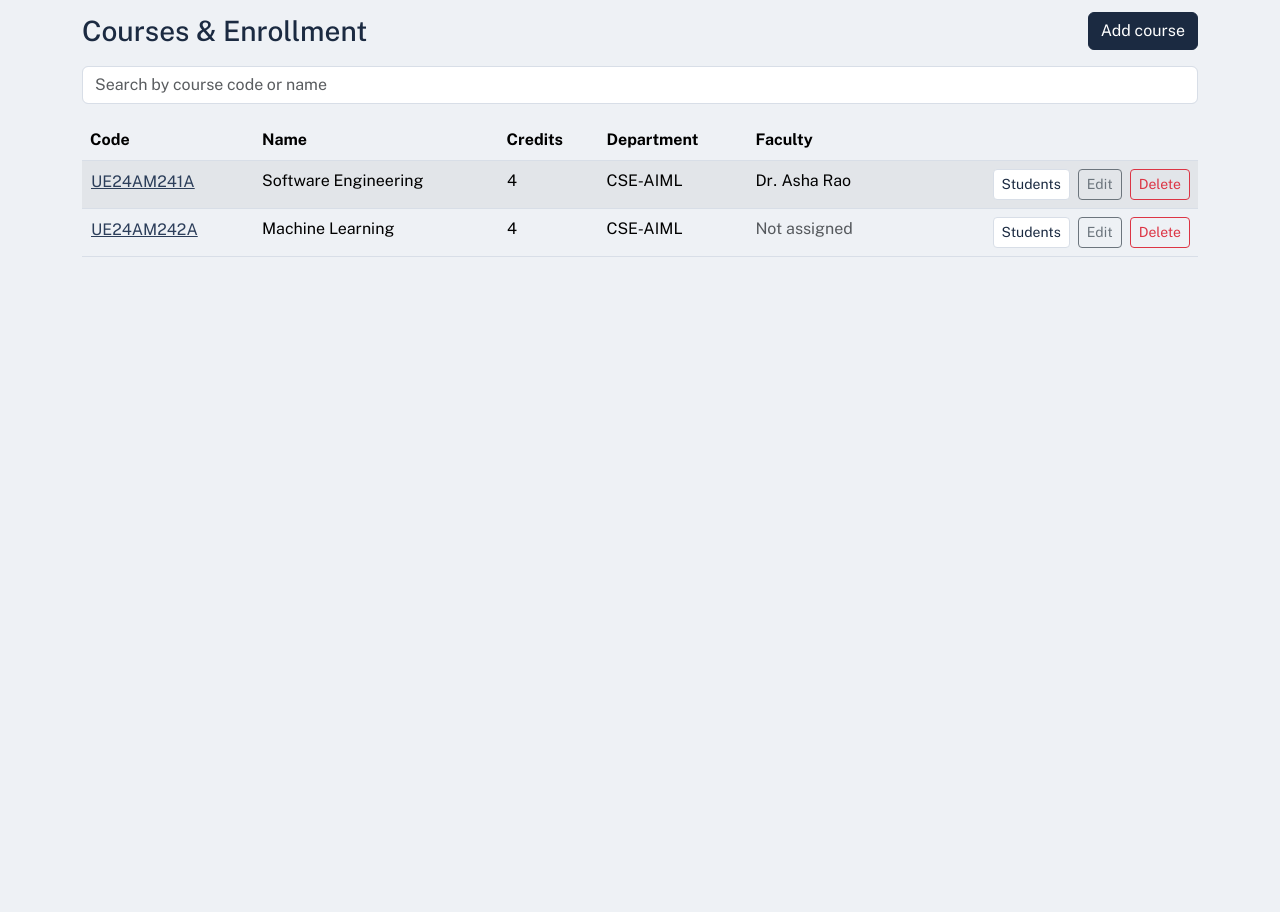
Test: Enrollment panel (issue #12) › TC-CRS-03: shows the API message for a duplicate enrollment
Click the button with aria-label "Students in UE24AM241A" at (1031, 184), box [992,169,1070,200]
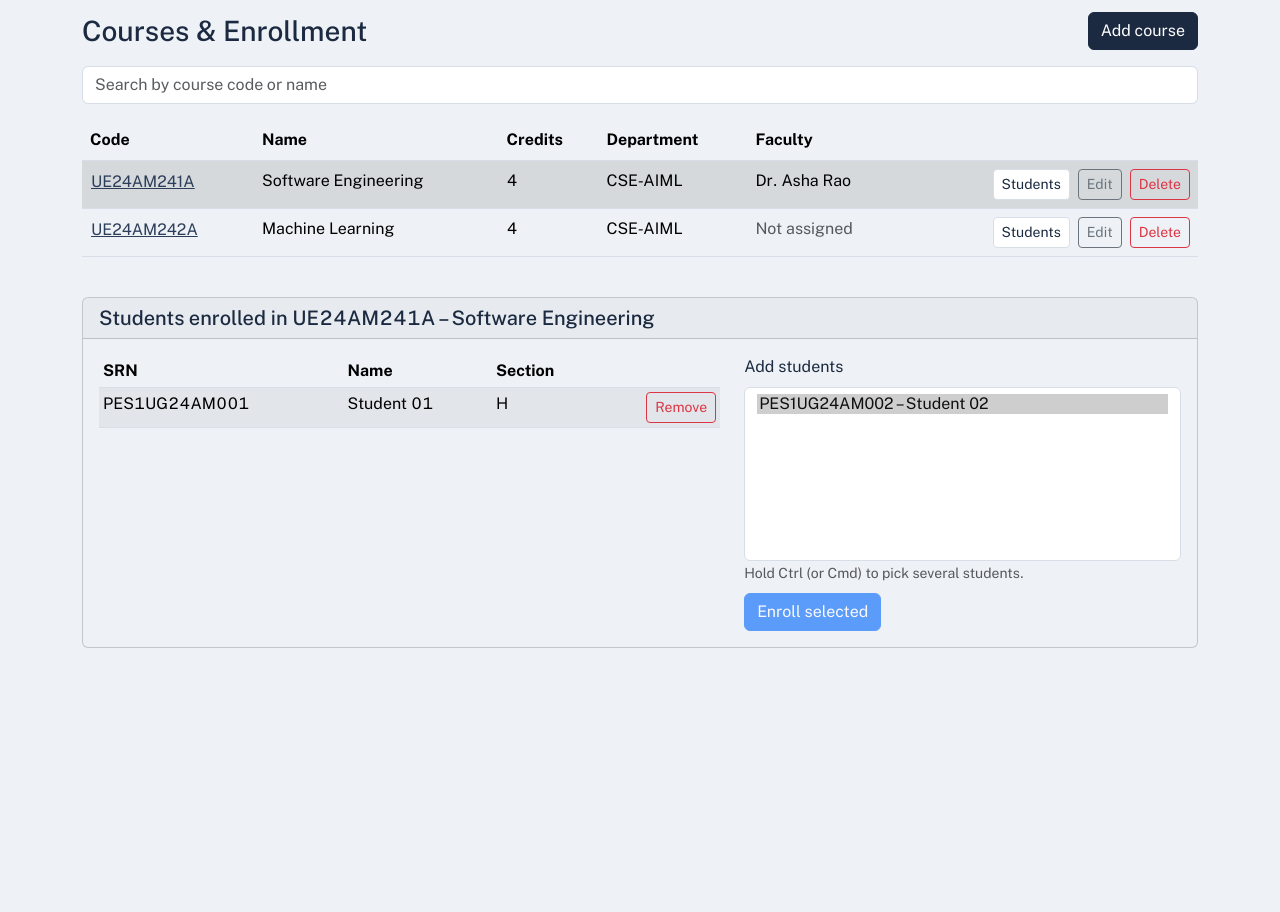
Check: the button with aria-label "Remove PES1UG24AM001" is shown, box [646,392,716,423]
Select "PES1UG24AM002 – Student 02" in the dropdown labelled "Add students" at (963, 474), box [744,387,1181,561]
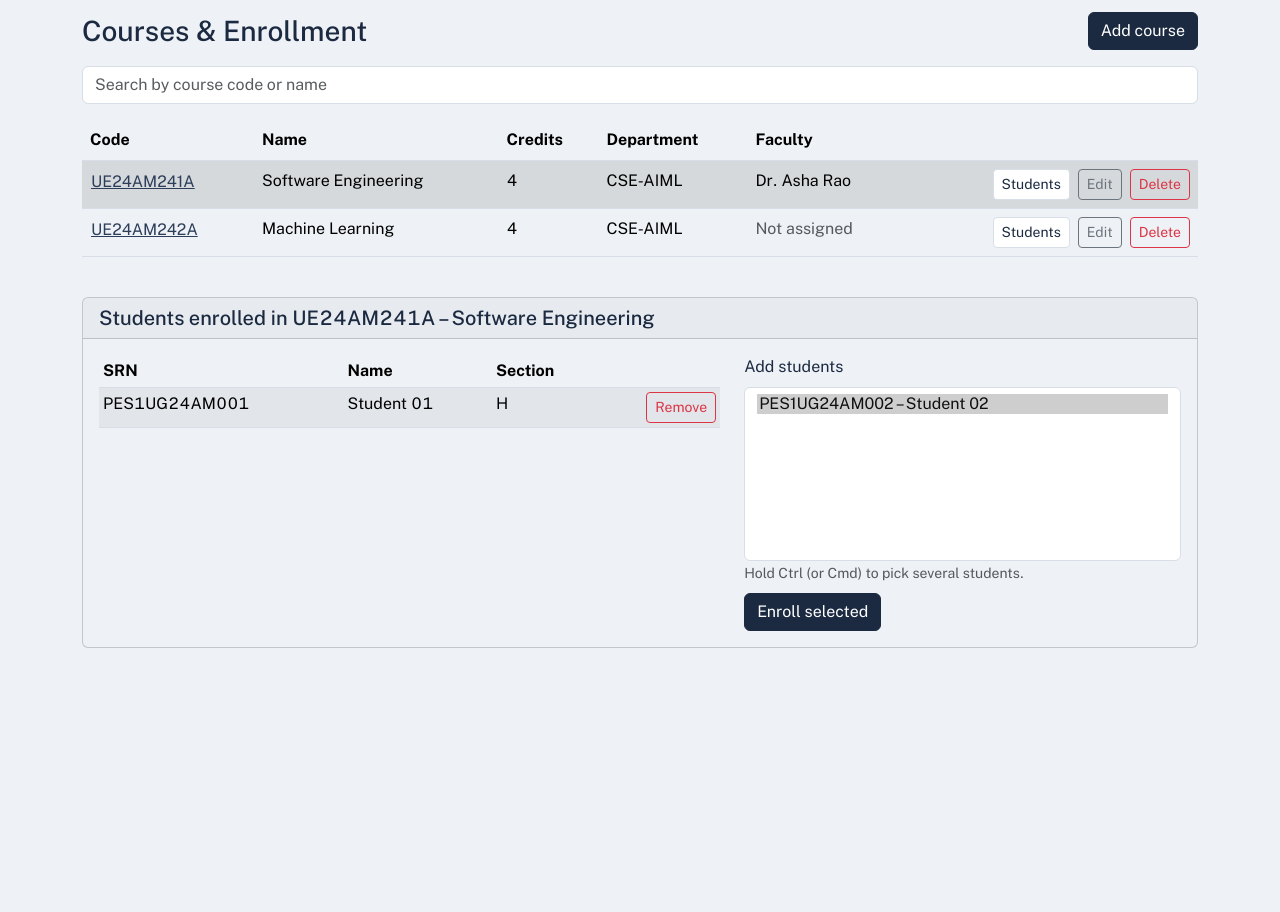
Click the button "Enroll selected" at (813, 612), box [744,593,881,631]
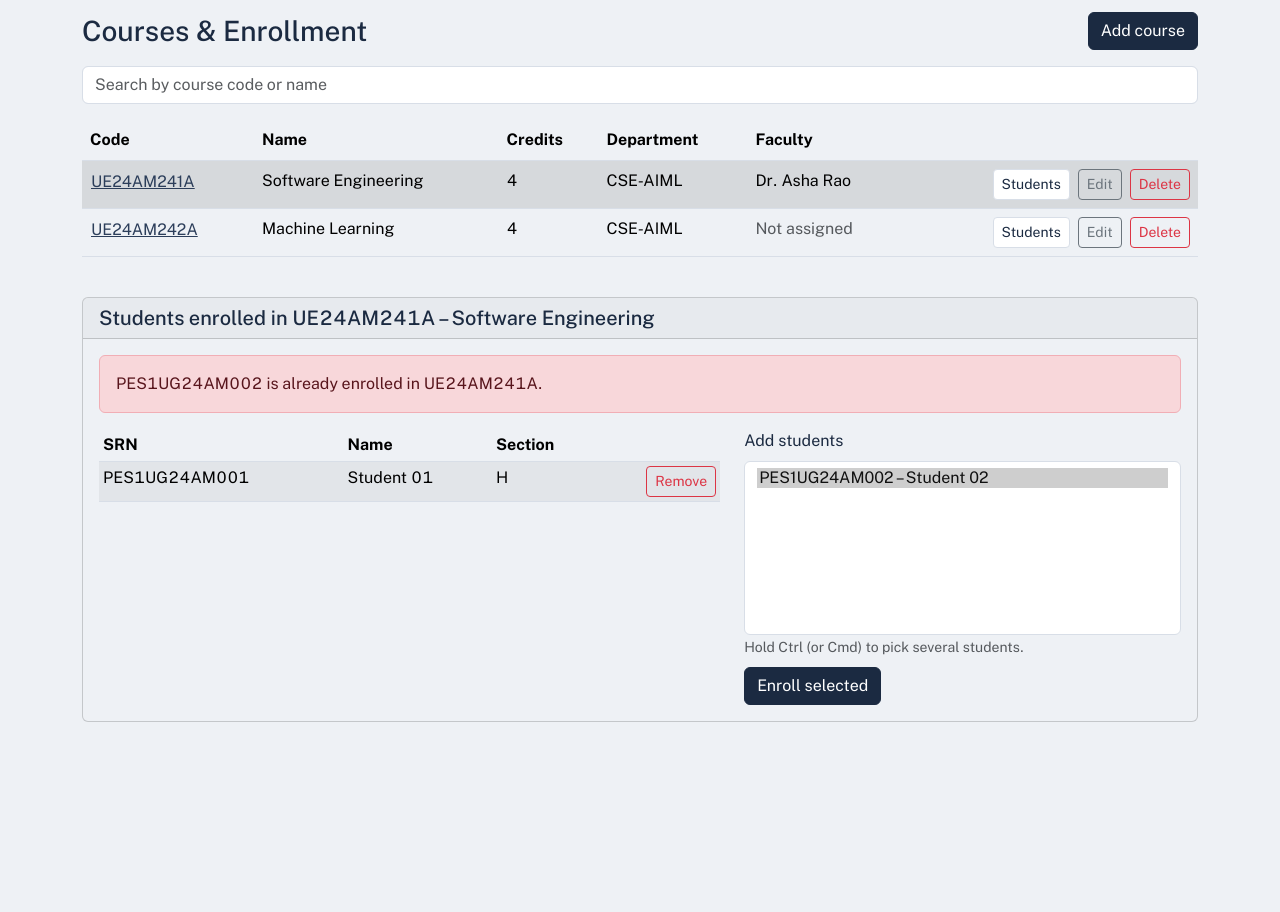
Check: the text "PES1UG24AM002 is already enrolled in UE24AM241A." is shown, box [99,355,1181,413]
